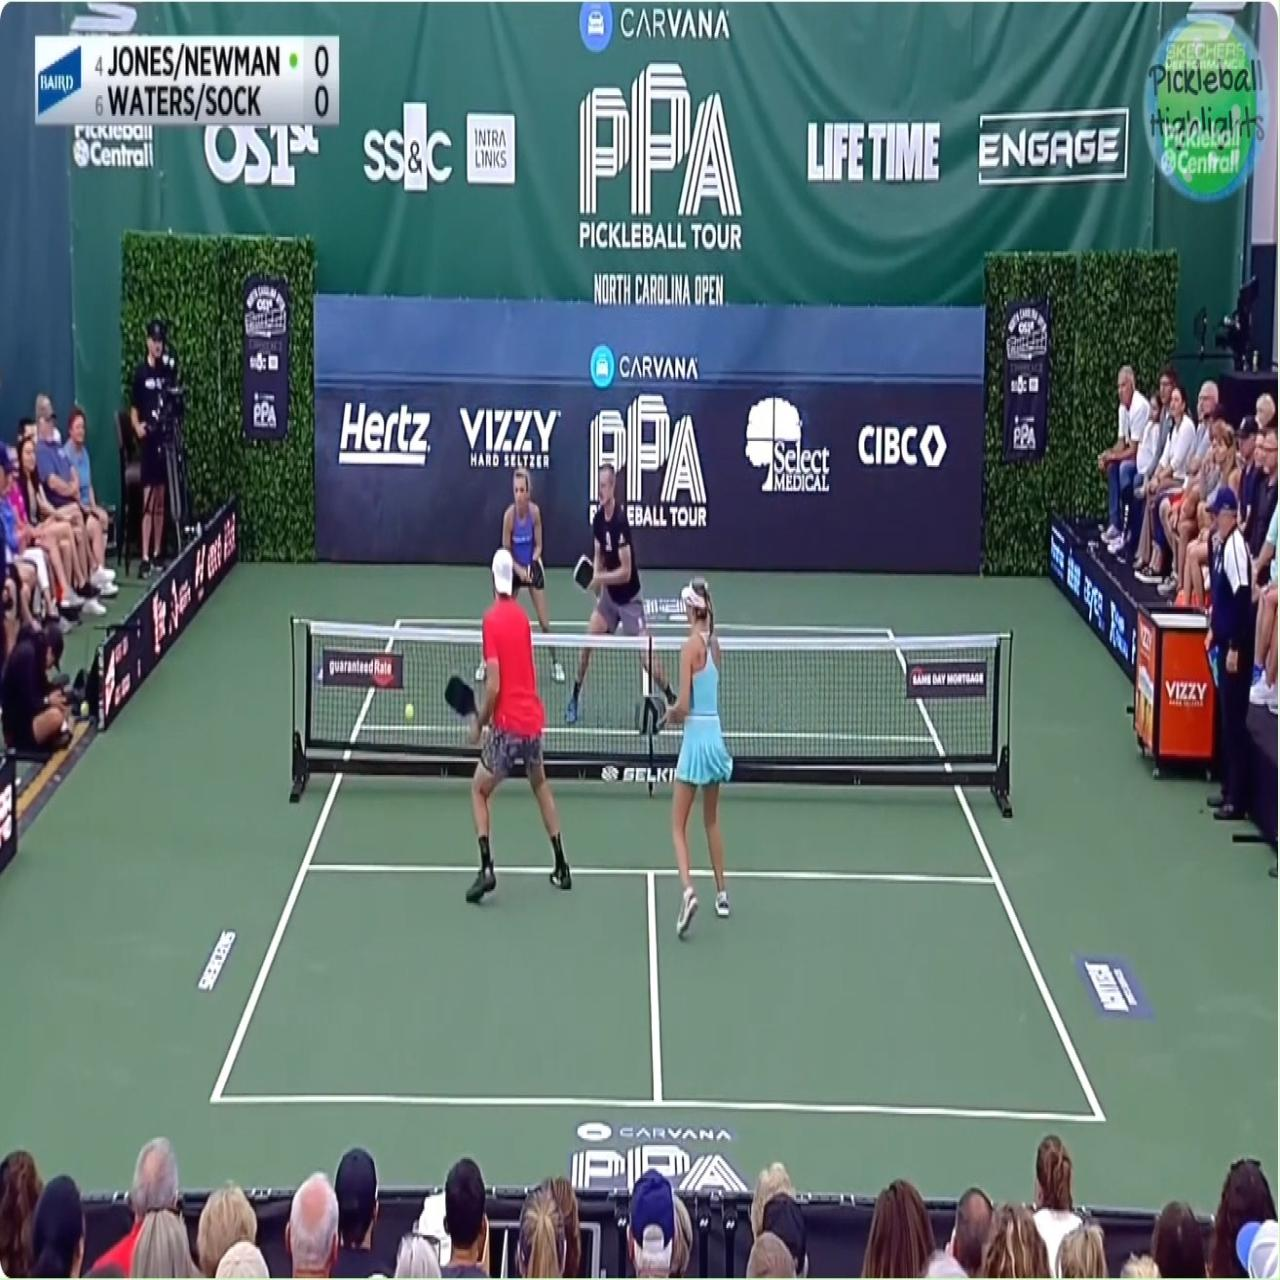pickleball: (404, 702, 414, 720)
